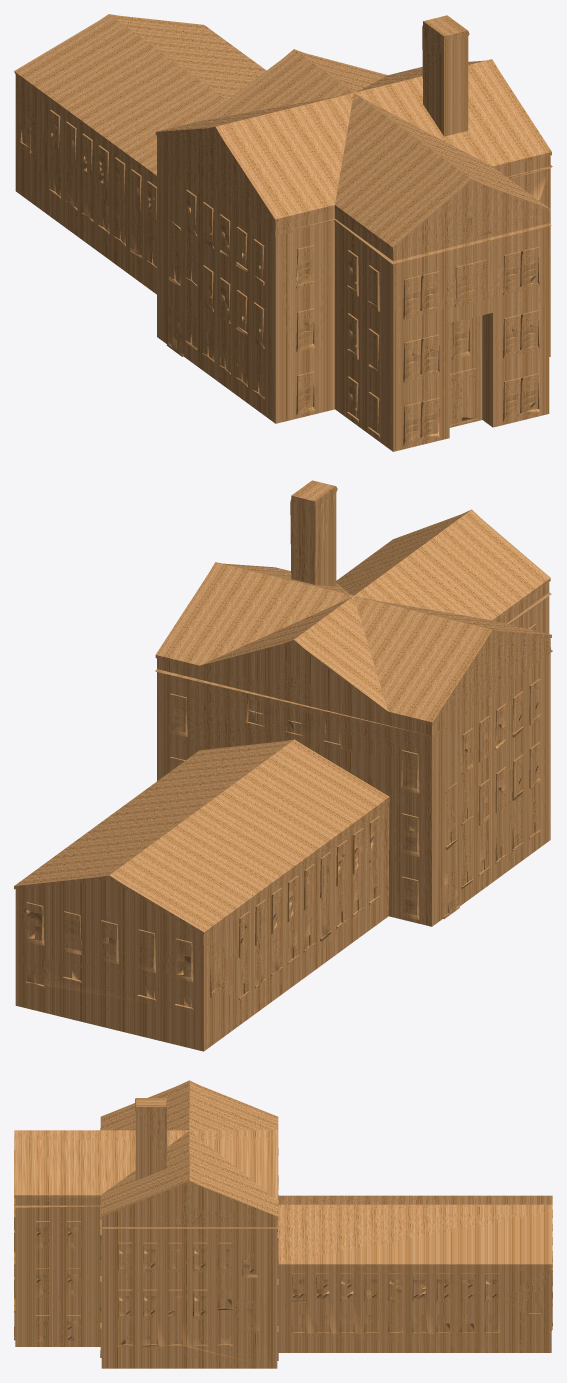
The model's file is School.FBX.
3 views of the same model, one above another, from view 1: azimuth 30°, elevation 25°; view 2: azimuth 150°, elevation 25°; view 3: azimuth 270°, elevation 25° (orthographic). The views are drawn at different scales.
Parts seen in each view (by area): view 1: Model; view 2: Model; view 3: Model.
Part boxes in pixels (left/top/right/bottom): Model: left=14, top=14, right=552, bottom=451; Model: left=14, top=480, right=552, bottom=1051; Model: left=14, top=1080, right=552, bottom=1368.
Size of the model in its own units: 54.34 by 60.52 by 123.
1 material, 1 textured.
